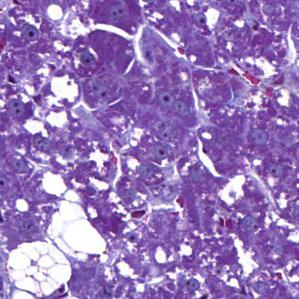ballooning: (43, 198, 110, 266), (5, 240, 75, 297)
